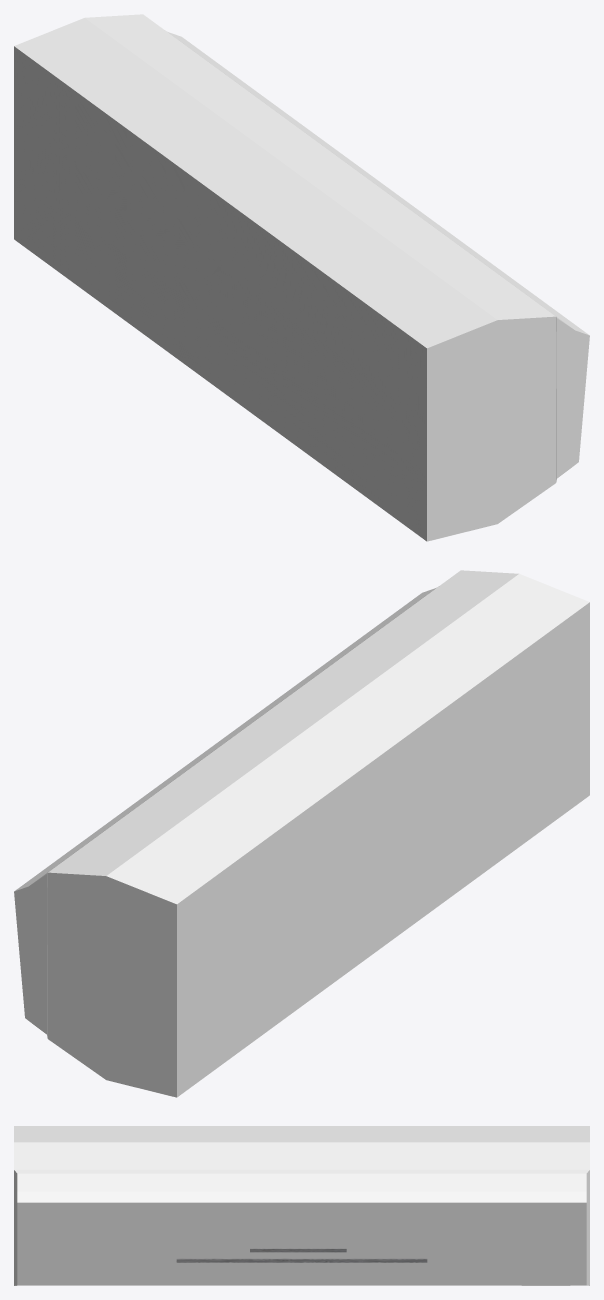
File: aire.obj
The picture shows the model from 3 angles, top to bottom: view 1: azimuth 30°, elevation 25°; view 2: azimuth 150°, elevation 25°; view 3: azimuth 270°, elevation 25°; orthographic projection. The views are drawn at different scales.
Visible parts, largest first — view 1: pCube2; view 2: pCube2; view 3: pCube2.
Boxes of the visible parts, x1,y1,x2,y2 form: pCube2: [14, 14, 589, 541]; pCube2: [14, 570, 589, 1097]; pCube2: [14, 1126, 589, 1285].
Bounding box in the file's own units: 2.77 × 3.27 × 12.
Materials: 3 (3 with a texture image).
